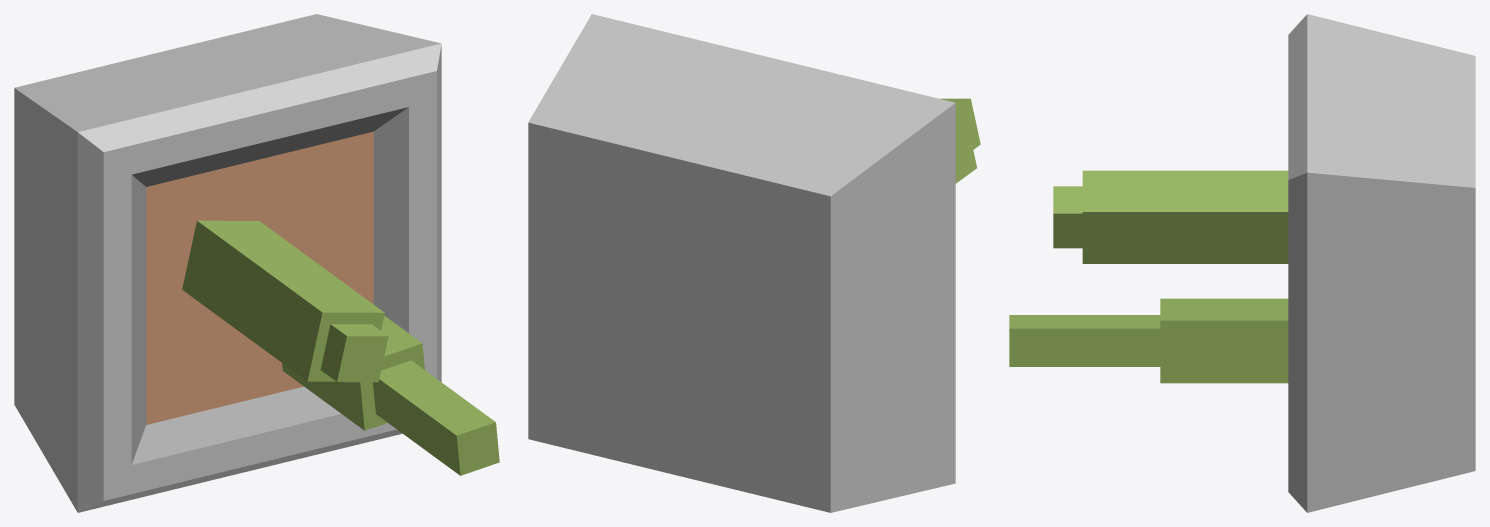
The model's file is Deco.obj.
3 renders of one model, left to right at view 1: azimuth 30°, elevation 25°; view 2: azimuth 150°, elevation 25°; view 3: azimuth 270°, elevation 25°, orthographic. The views are drawn at different scales.
Visible parts, largest first — view 1: Deco.013; view 2: Deco.013; view 3: Deco.013.
Part boxes in pixels (bbox=[...]): Deco.013: bbox=[14, 14, 499, 512]; Deco.013: bbox=[528, 14, 980, 512]; Deco.013: bbox=[1009, 14, 1475, 512].
Size of the model in its own units: 0.0798 by 0.0798 by 0.0992.
